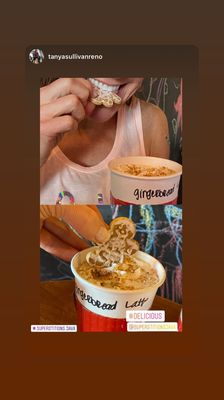sushi: (108, 155, 182, 205)
